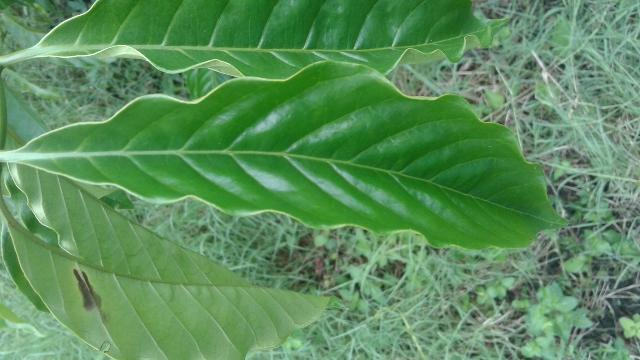healthy: (7, 62, 567, 250)
